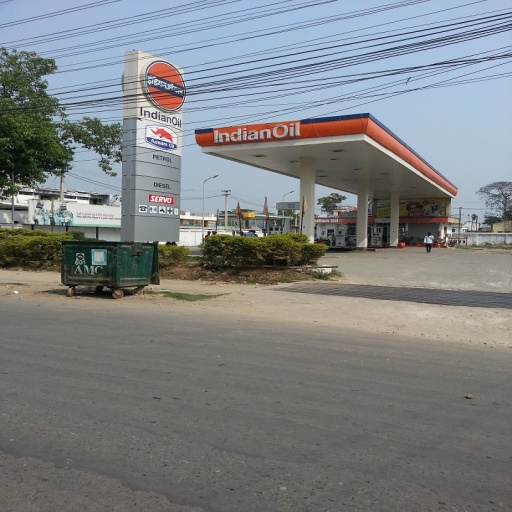roof: (195, 112, 457, 197)
